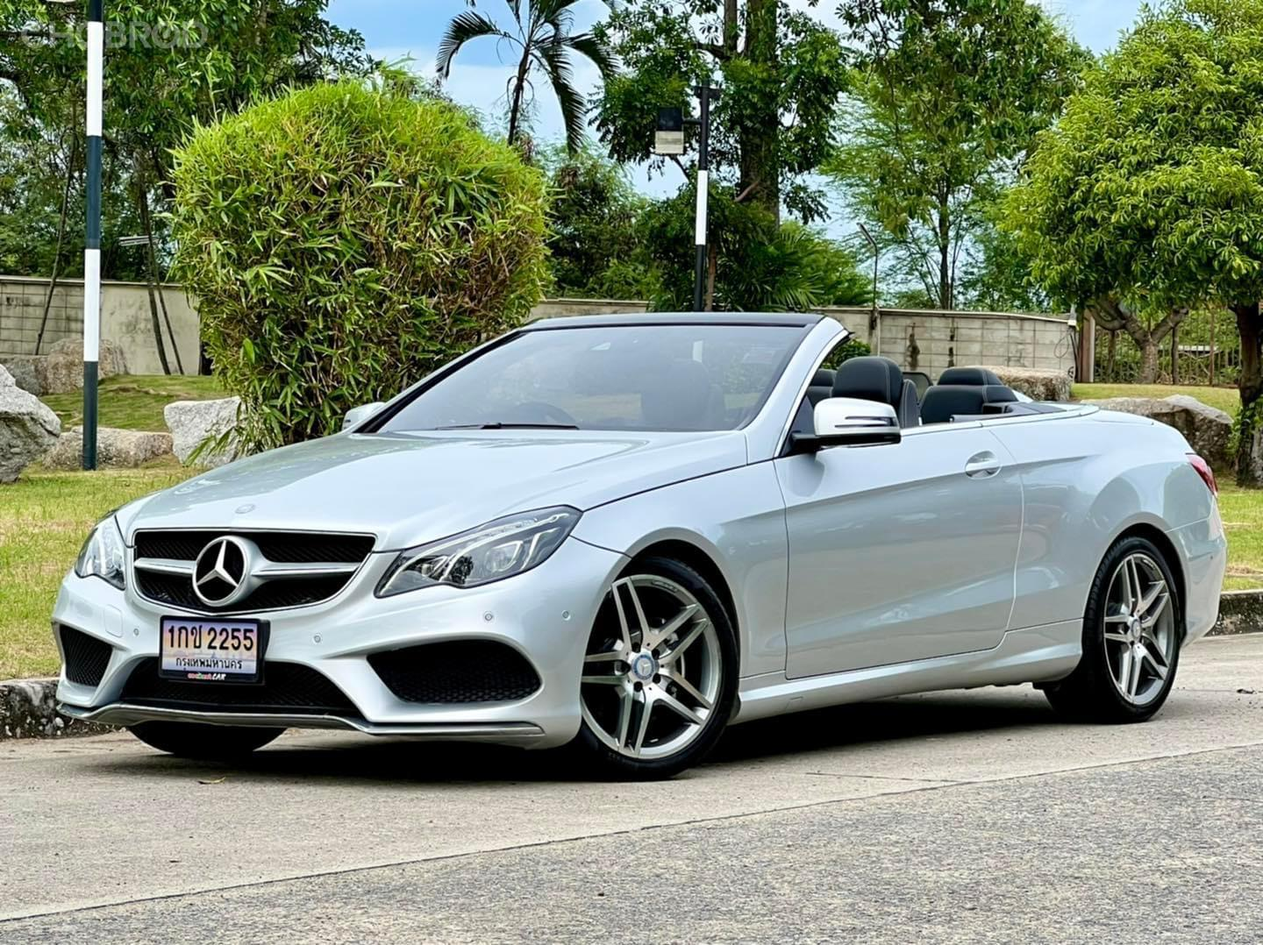license-plate: (158, 614, 262, 681)
